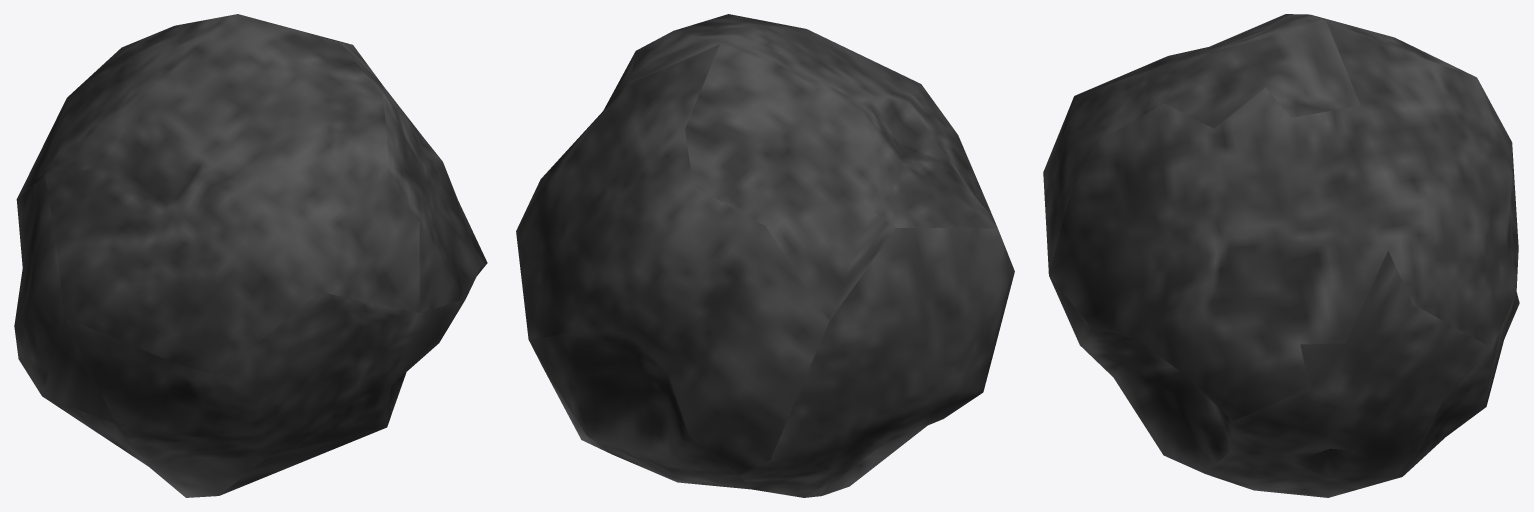
The model's file is Asteriod.fbx.
3 views of the same model, side by side, from view 1: azimuth 30°, elevation 25°; view 2: azimuth 150°, elevation 25°; view 3: azimuth 270°, elevation 25° (orthographic). The views are drawn at different scales.
Parts seen in each view (by area): view 1: uvlayout2; view 2: uvlayout2; view 3: uvlayout2.
Part boxes in pixels (<box>): uvlayout2: <box>14,14,487,497</box>; uvlayout2: <box>516,14,1014,497</box>; uvlayout2: <box>1043,14,1519,497</box>.
Bounding box in the file's own units: 73.52 × 72.12 × 67.67.
1 material, 1 textured.
